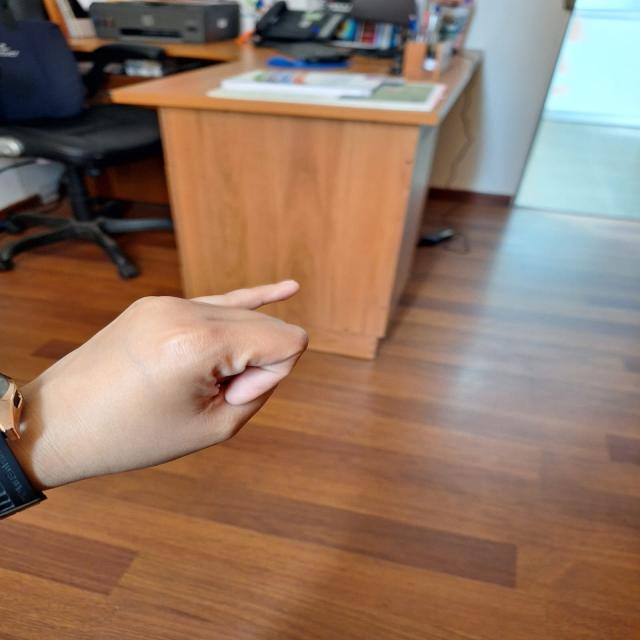Z: (40, 271, 313, 484)
